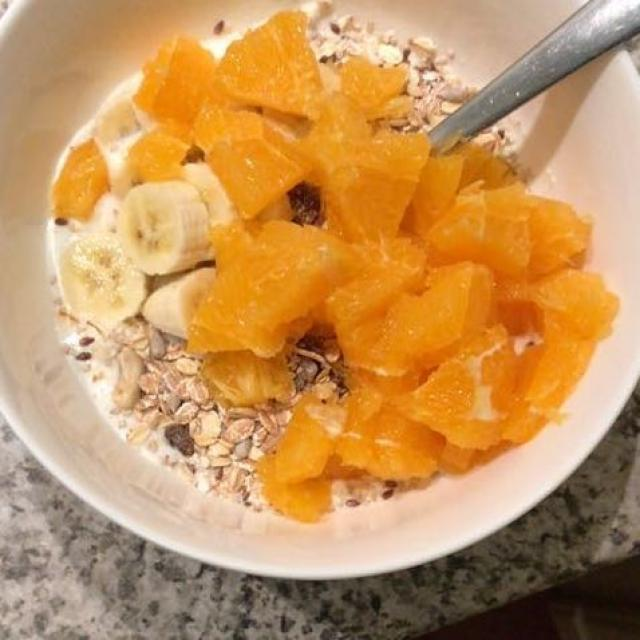birchermuesli: (40, 9, 624, 547)
